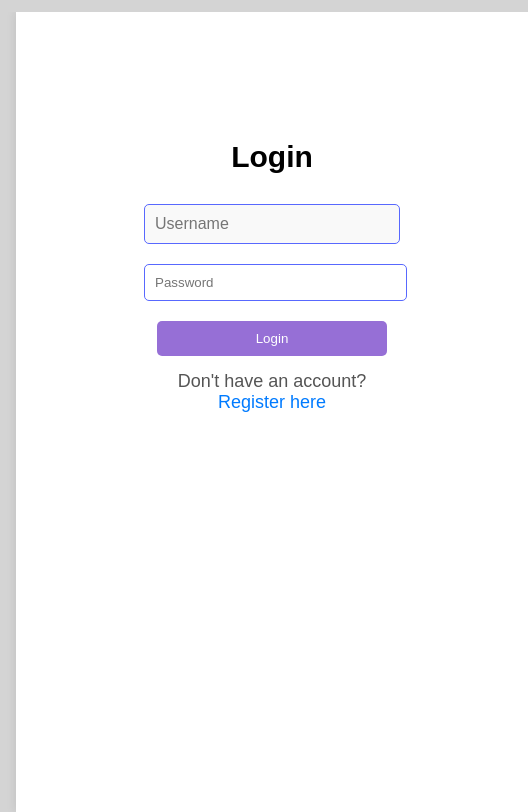
Login Component › handles successful login
Note: Fill form
Type "testuser" into the field with placeholder "Username" at (272, 224), box [144,204,400,244]
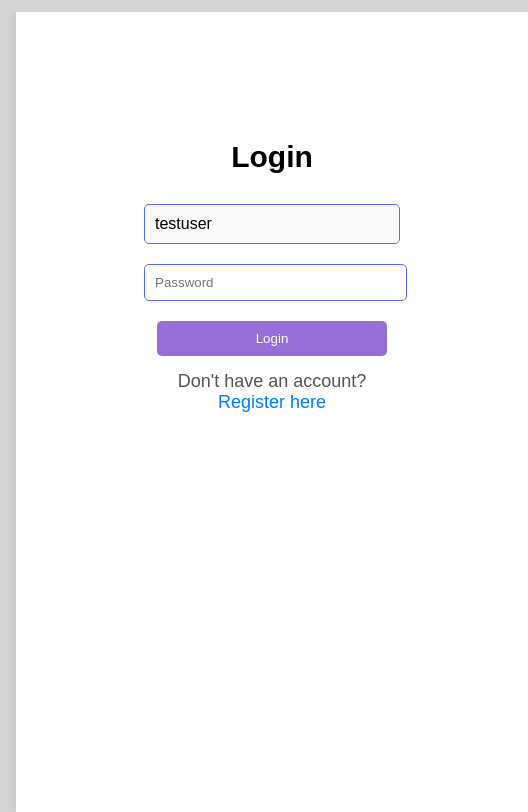
Type "testpass" into the password field with placeholder "Password" at (275, 282), box [144,264,407,301]
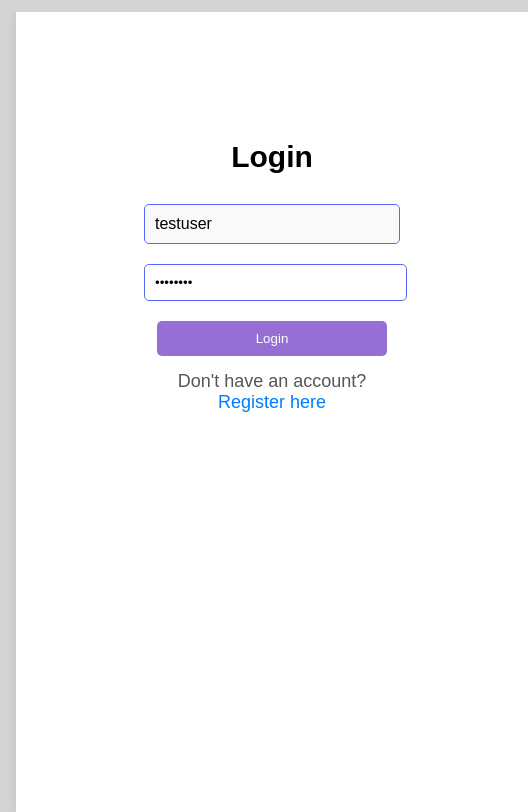
Note: Submit form
Click the button "Login" at (272, 338), box [157,321,387,356]
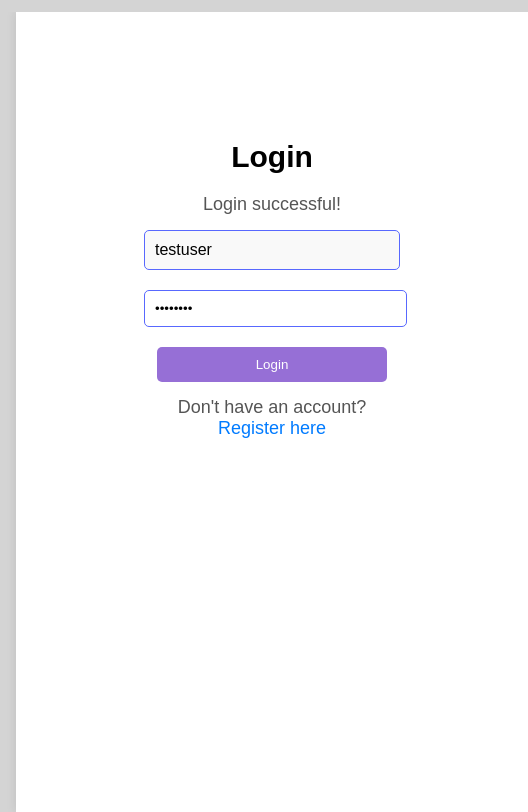
Expected: the text "Login successful!" is shown, [203,194,341,214]
